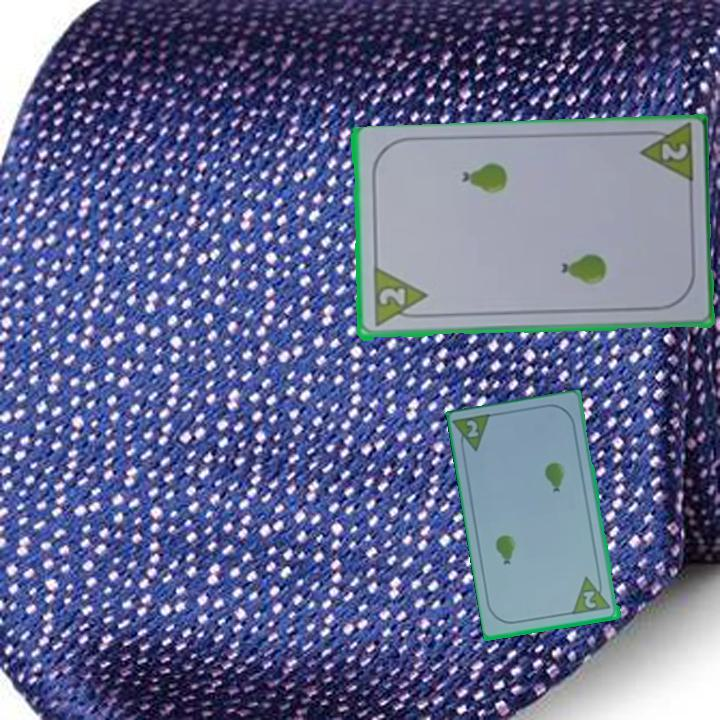2p: (634, 123, 696, 188), (452, 411, 496, 458), (570, 572, 614, 617), (375, 284, 408, 309)
